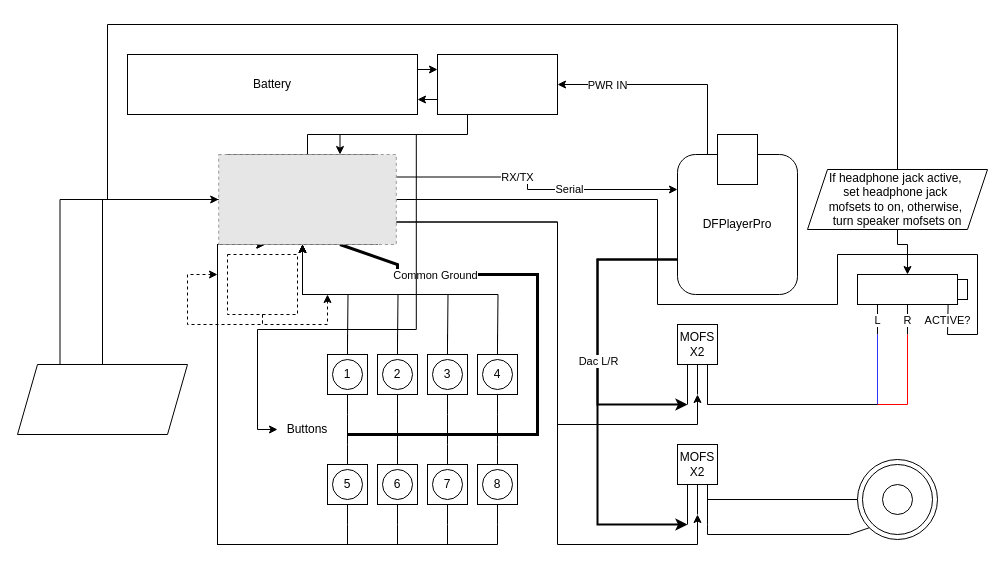
Some shapes in this 1005 by 570 pixel diagram are drawn without their labels. Grey dashed boxes stand in for pictures. The centre of each missing label's shape, as x and y in pixels:
"All should be on separate GPIO PINS" goes at point (262, 284).
"Battery Charge Circuit" goes at point (497, 84).
"Headphone Jack" goes at point (907, 289).
"On button press play assosiated file (Button 1, 01.mp3)" goes at point (102, 399).
"USBC MAIN" goes at point (737, 159).
